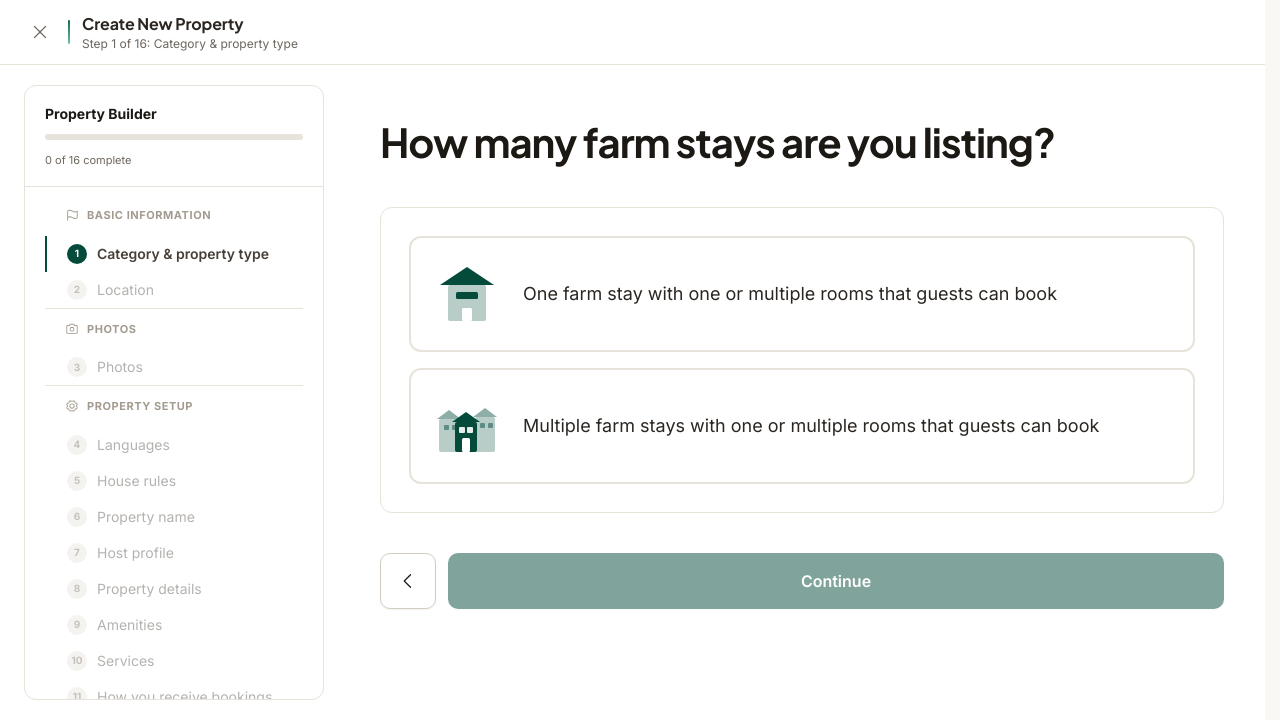
Test: PropertyHomeCountPage — how many are you listing › maps Multiple to the multiple listing scope
Click the text "Multiple farm stays with one or multiple rooms" at [846, 426], box [523,412,1169,440]
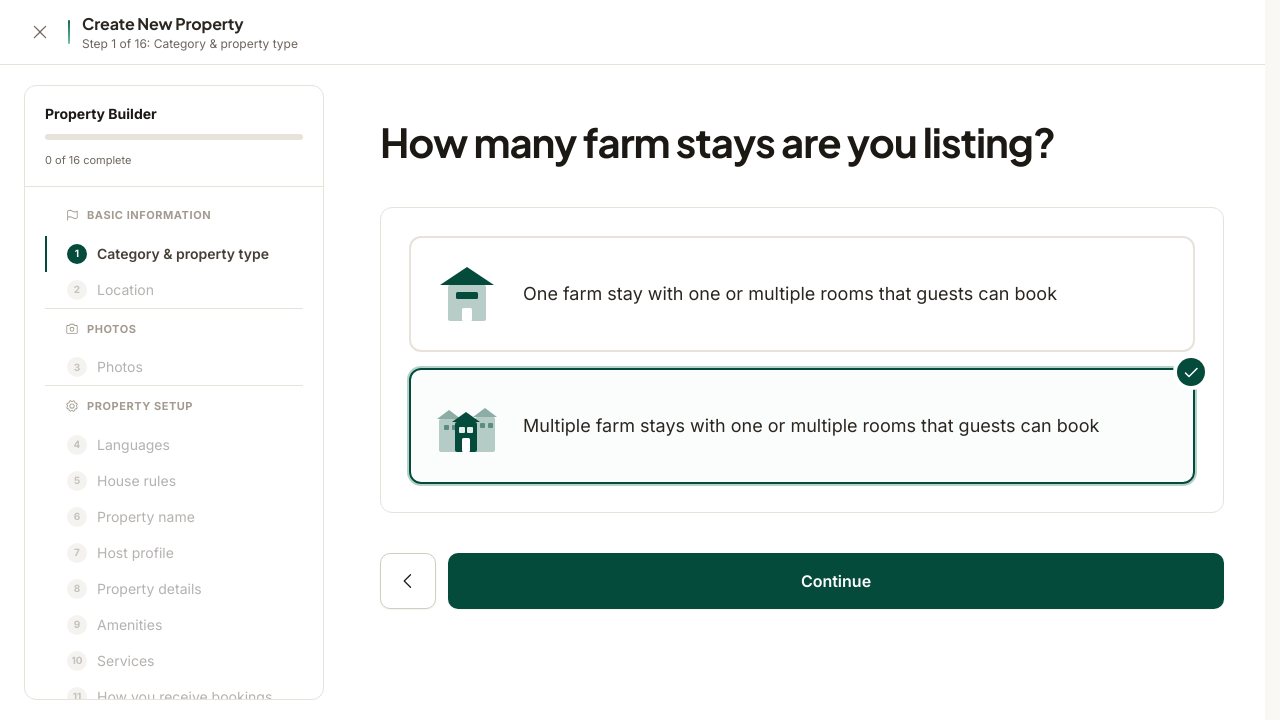
Click the button "Continue" at [836, 581], box [448,553,1224,609]
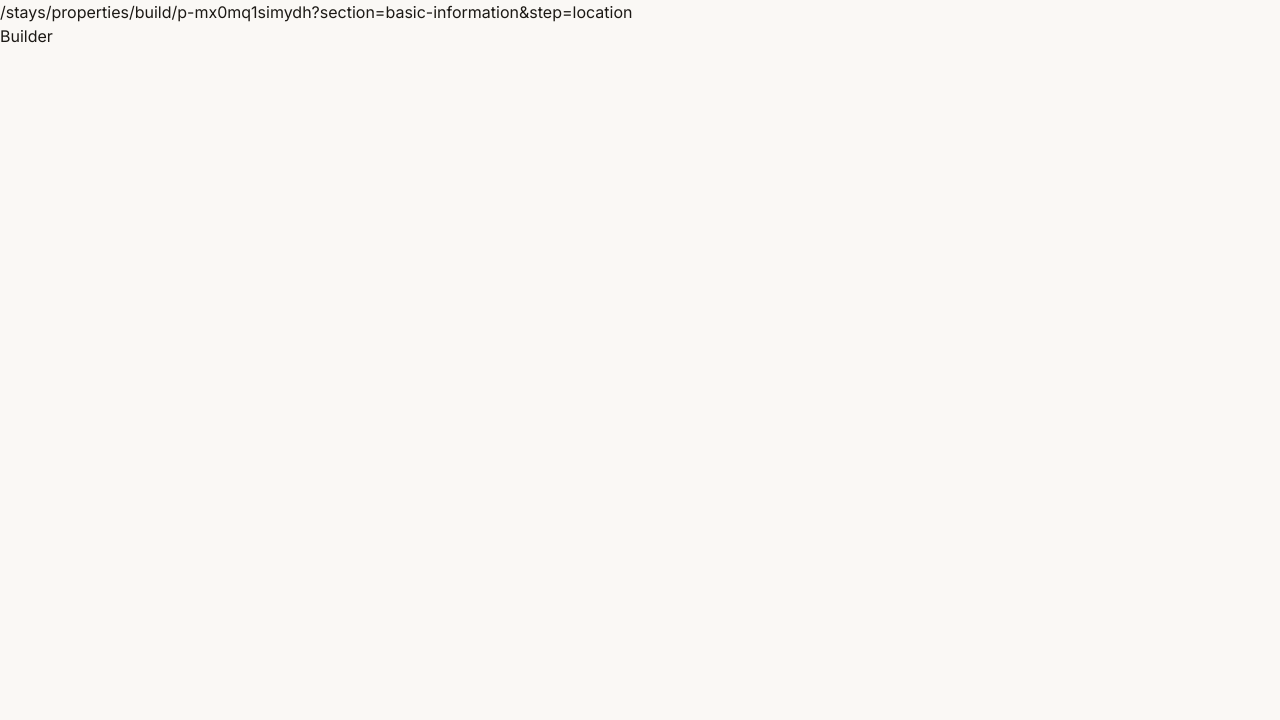
Now the text with test id "location" shows "step=location", box [0,2,632,22]
